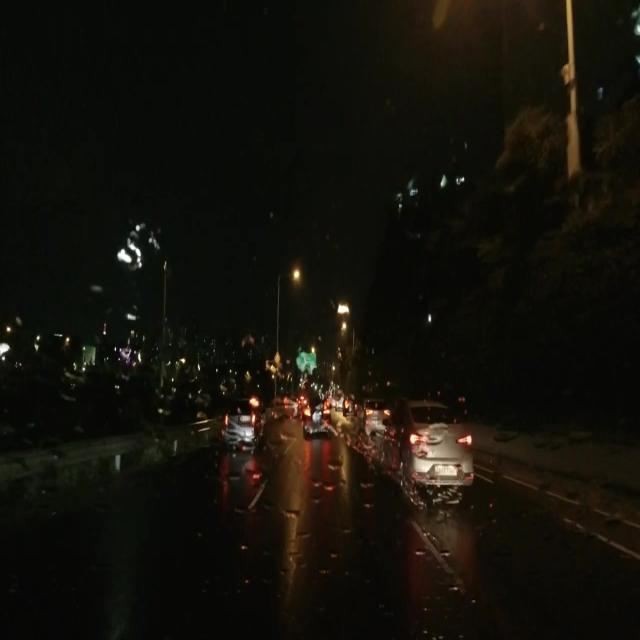Car: (379, 398, 471, 489), (219, 388, 260, 447), (300, 388, 331, 439), (356, 395, 386, 430)
